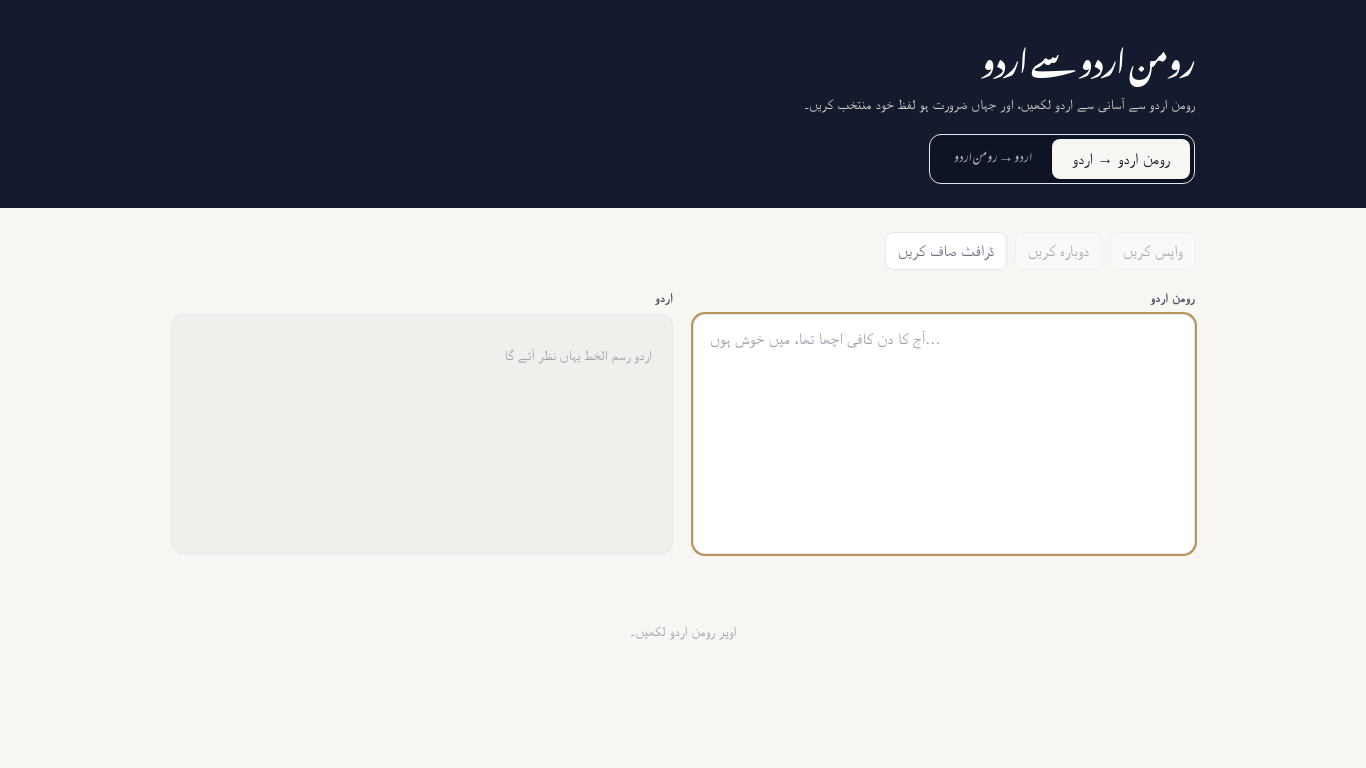
Scenario: 20. Urdu review wording — exact strings present
Note: Type high-confidence input → reviewCount should be 0 → "no review" Urdu message
In the text box with id "roman-input": (944, 434) [693, 314, 1195, 554], type "aaj theek hai"
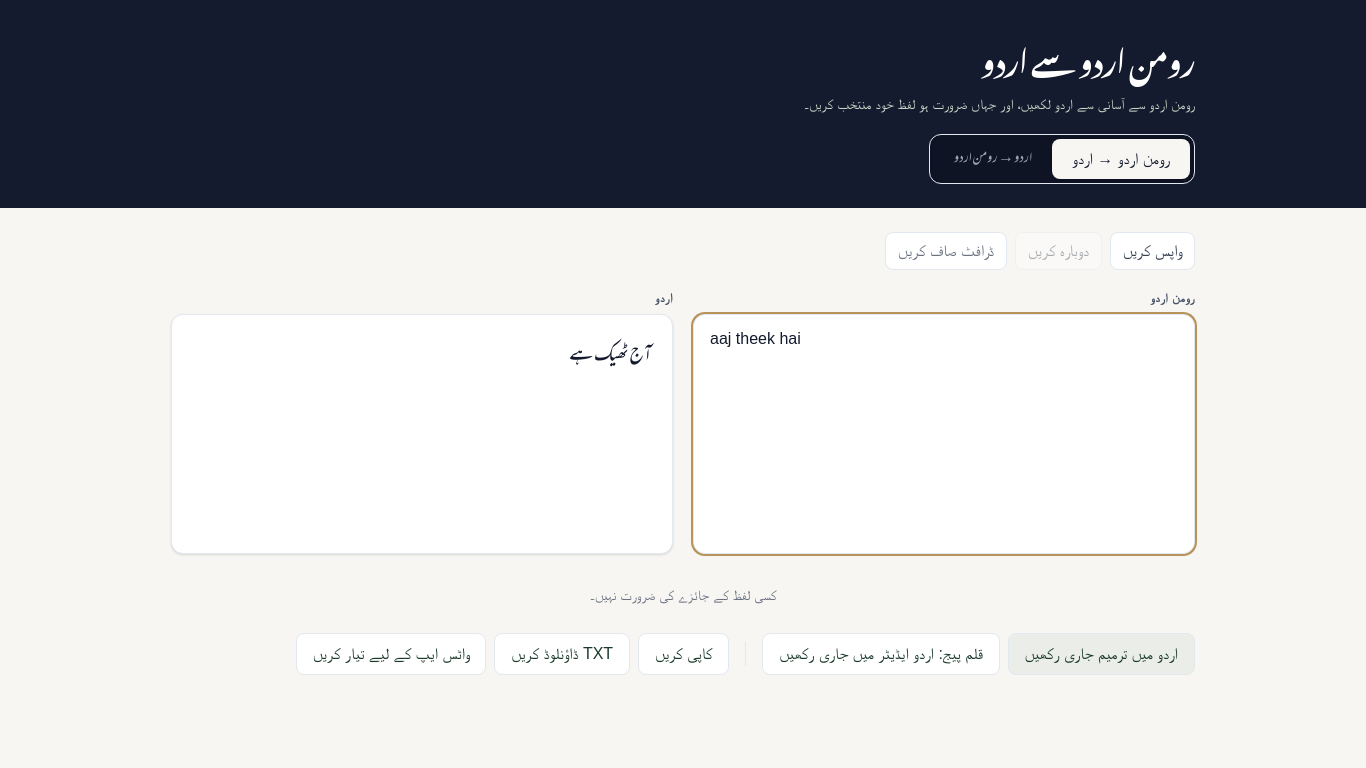
Expected: the text "کسی لفظ کے جائزے کی ضرورت نہیں" is shown, [589, 587, 777, 603]
